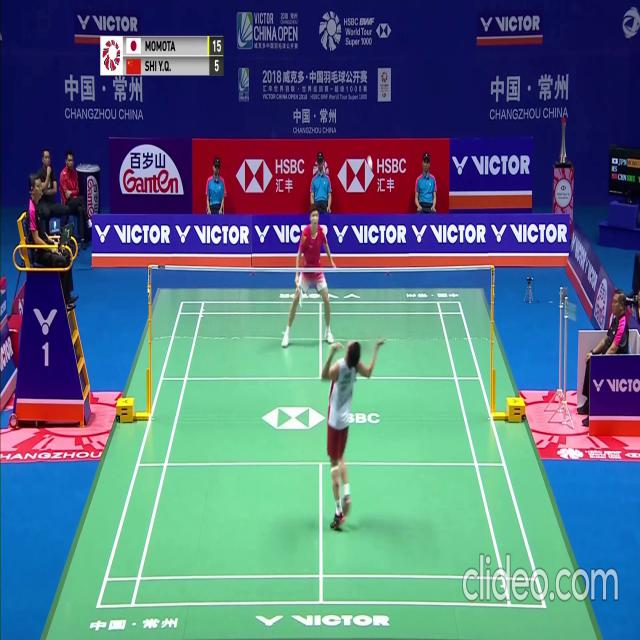Shuttlecock: (367, 159, 372, 167)
